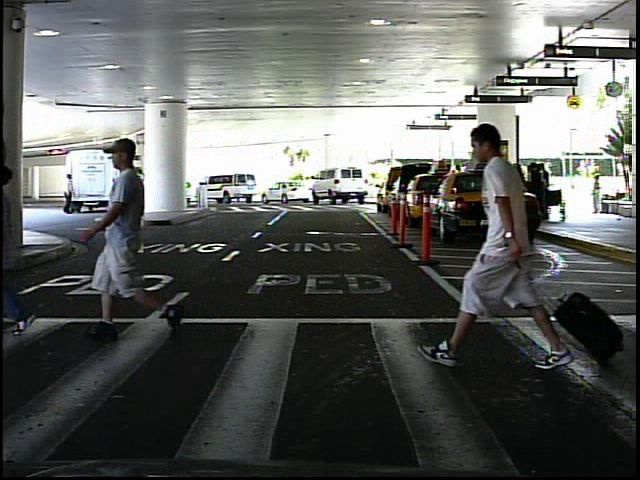person: (431, 112, 580, 378), (88, 130, 179, 343), (58, 170, 78, 220), (588, 172, 607, 218)
